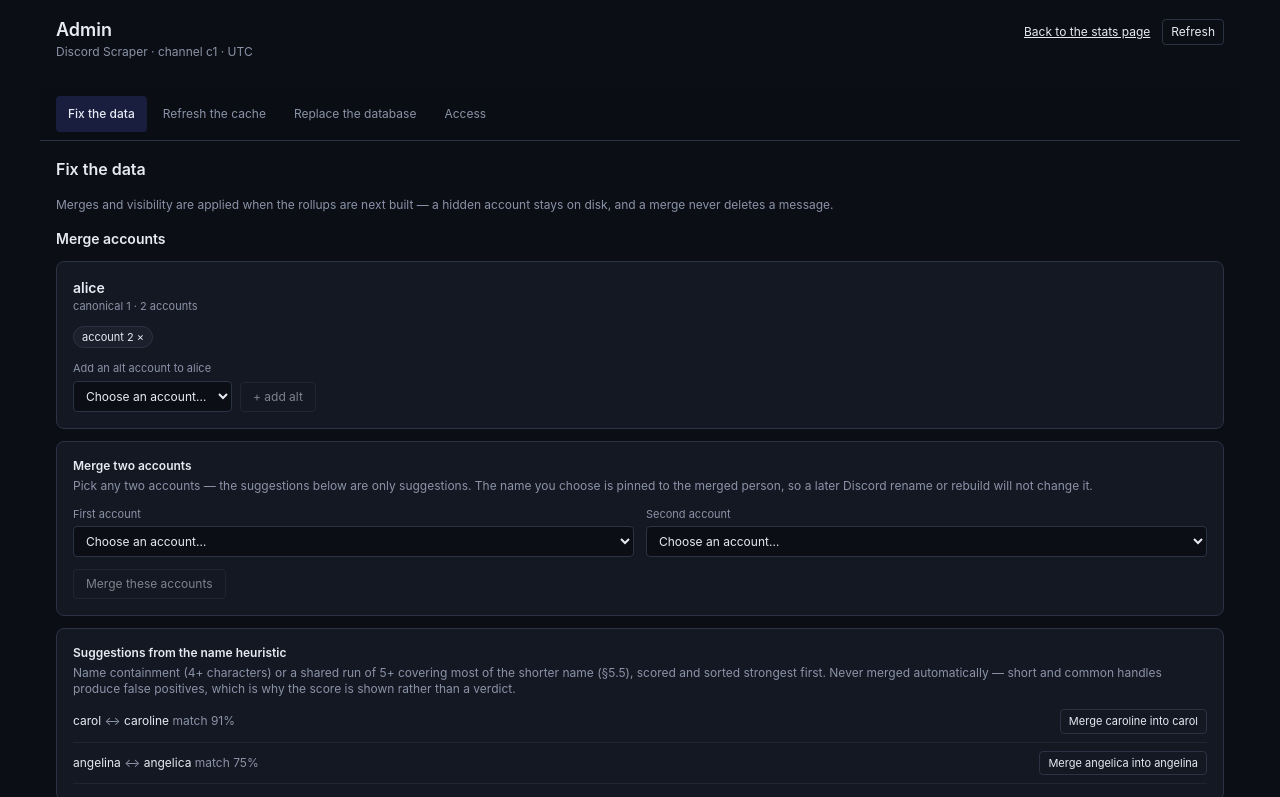
Test: <Admin> › says two picks are the same person instead of merging them again
Click the button "Fix the data" at (101, 114), box [56,96,147,132]
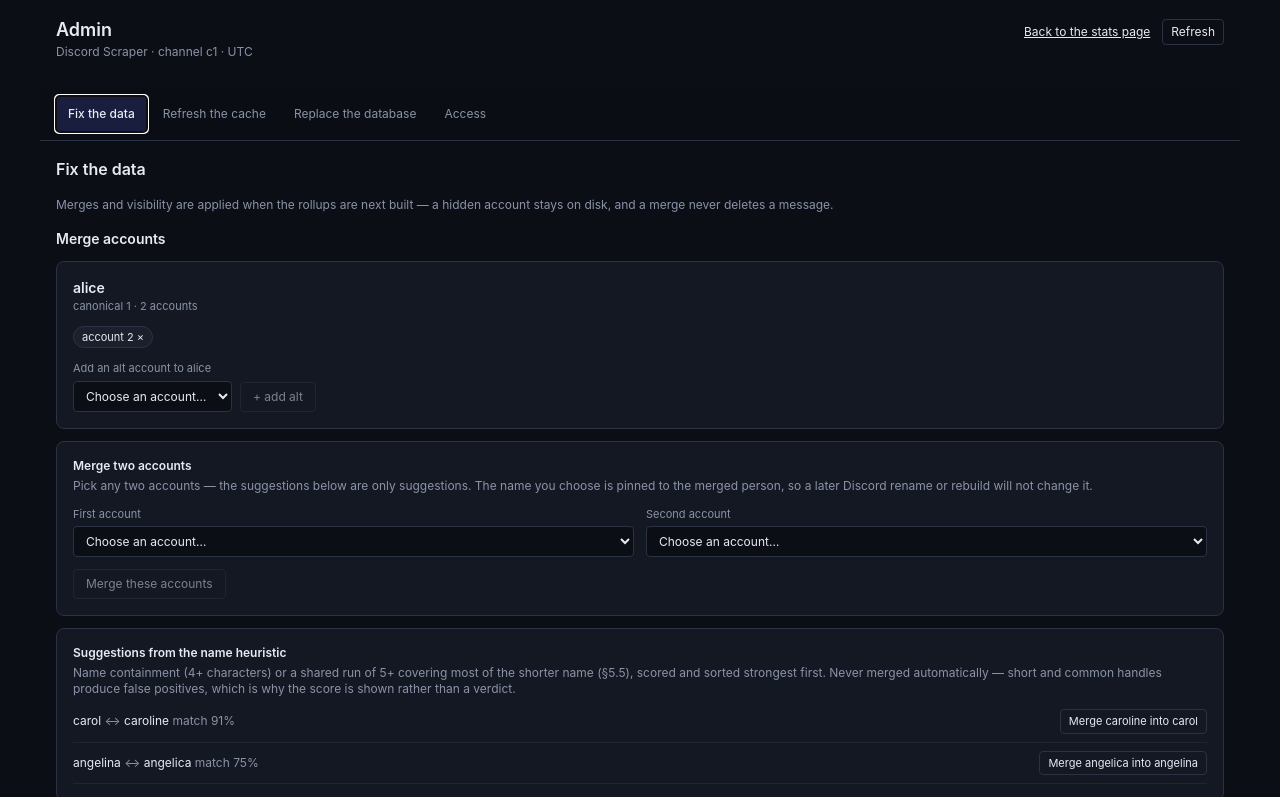
Select "alice (1)" in the dropdown labelled "First account" at (354, 542), box [73,526,634,557]
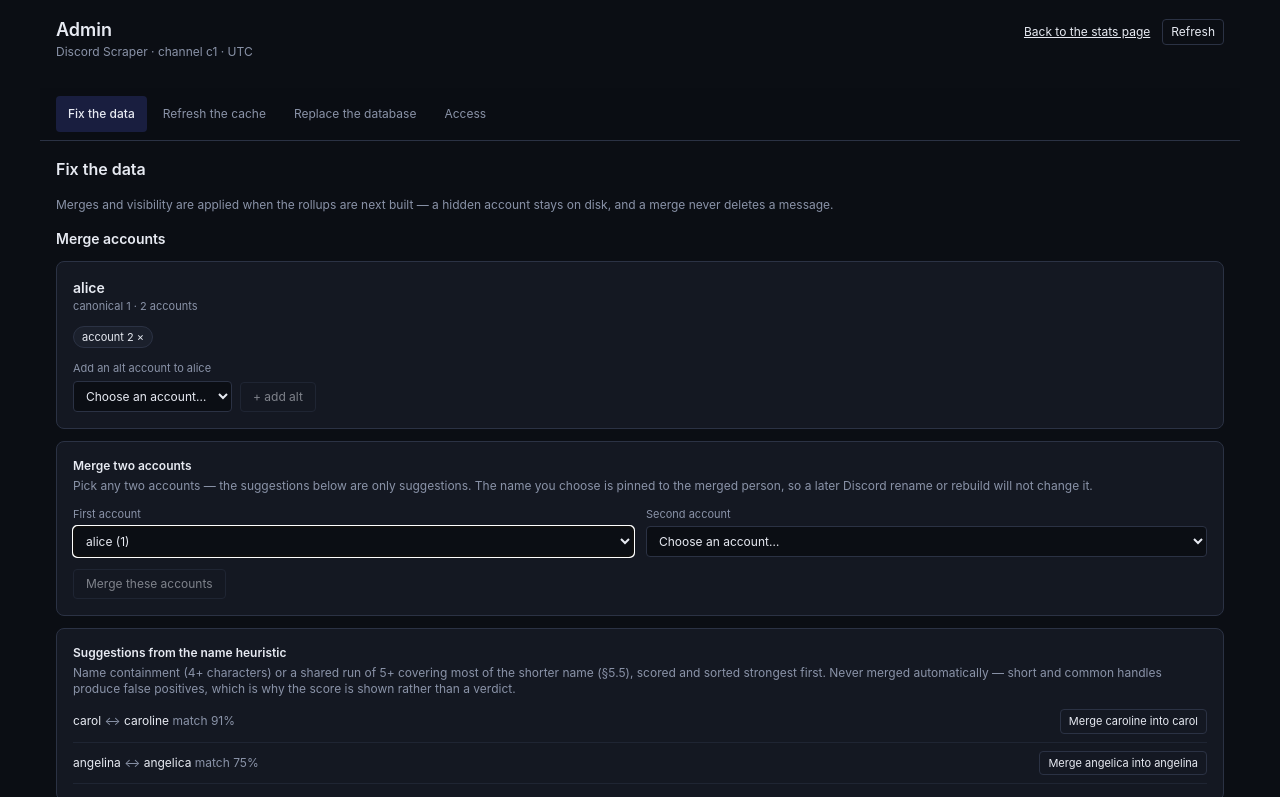
Select "account 2 (2)" in the dropdown labelled "Second account" at (926, 542), box [646,526,1207,557]
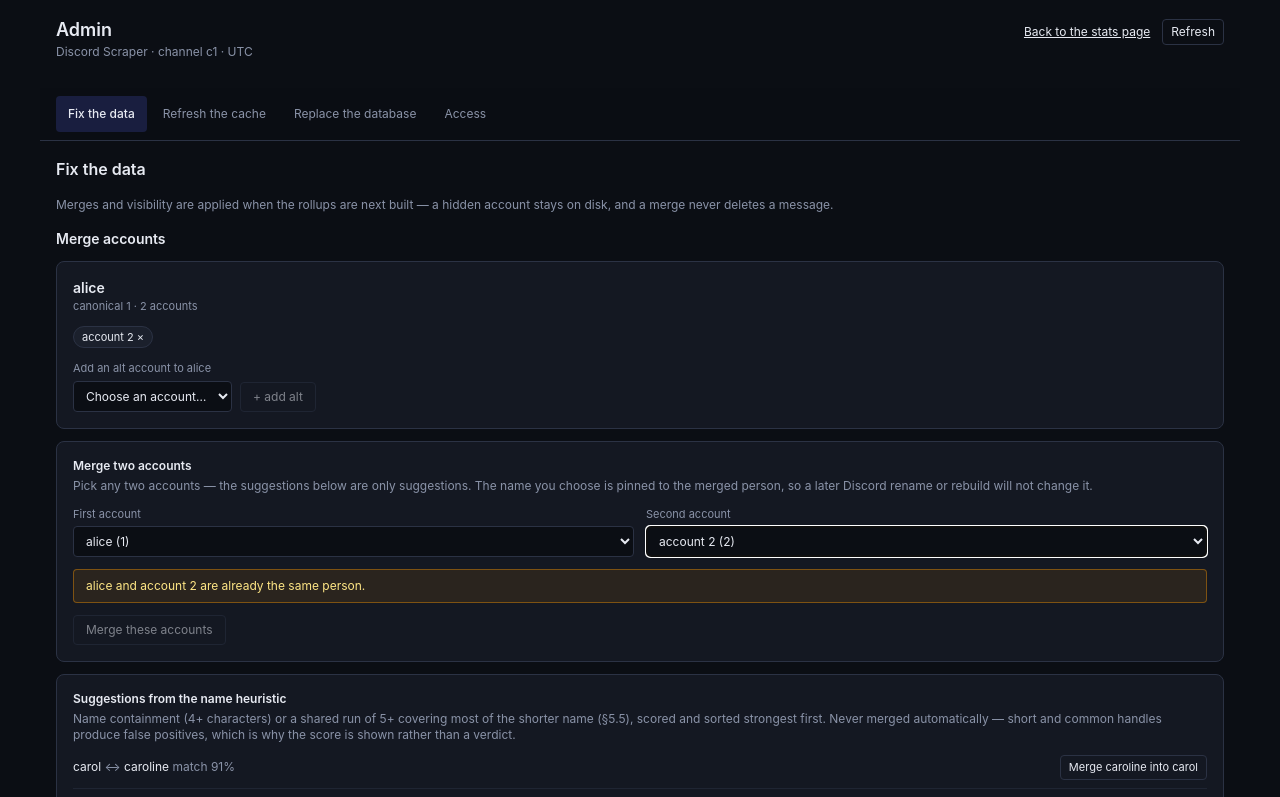
Expected: the button "Merge these accounts" is disabled, [73,615,226,645]
Now the text "alice and account 2 are already the same person." is shown, box [73,569,1207,603]
